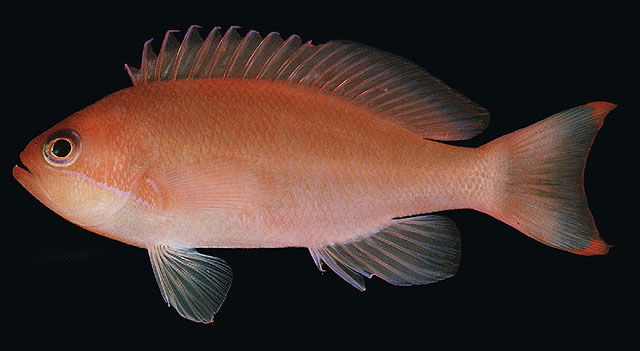fish: (11, 26, 619, 325)
